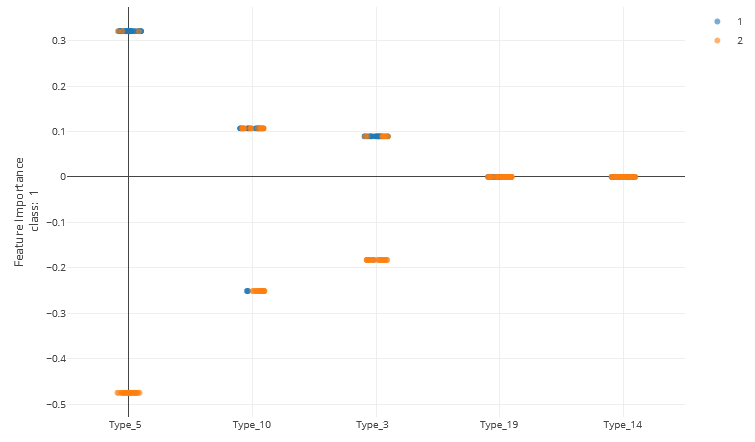

The page's visual inventory and layout, read from the dashboard file:
{"tool":"tableau","page":{"name":"Parasitemia Boxplot Dashboard","canvas":[800,200],"ordinal":0},"visuals":[{"type":"worksheet","title":"Parasitemia Boxplot","mark":"Circle","cols":["Parasitemia"],"box":[8,8,784,184]},{"type":"legend","title":"Parasitemia Boxplot","param":"[federated.0e6ofi3114s68f18ojkgn15q1dwh].[none:PfHRP2:ok]","box":[580,24,140,58]}]}

Visuals, with their boxes on the page's 800x200 design canvas (x1, y1, x2, y2). These are canvas units, not pixel positions in the 755x442 screenshot, which may show the page scaled, cropped or inside an application window:
"Parasitemia Boxplot" worksheet (Circle marks): 8:8:792:192
"Parasitemia Boxplot" legend: 580:24:720:82
